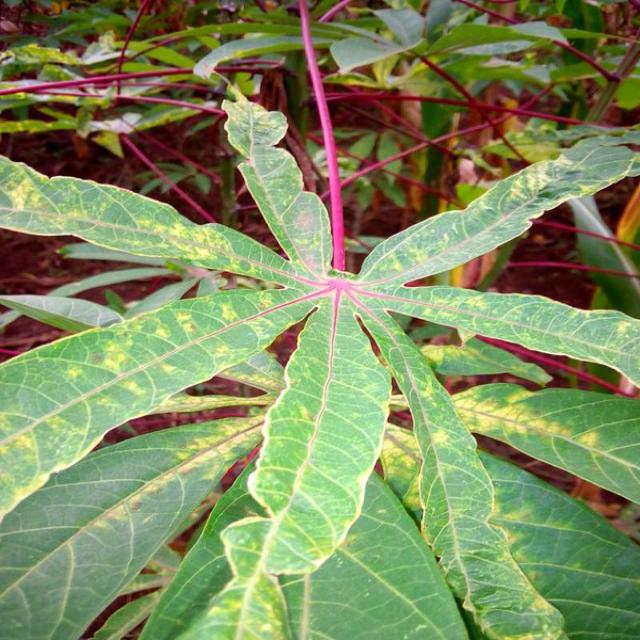cassava leaf: (2, 79, 640, 637)
